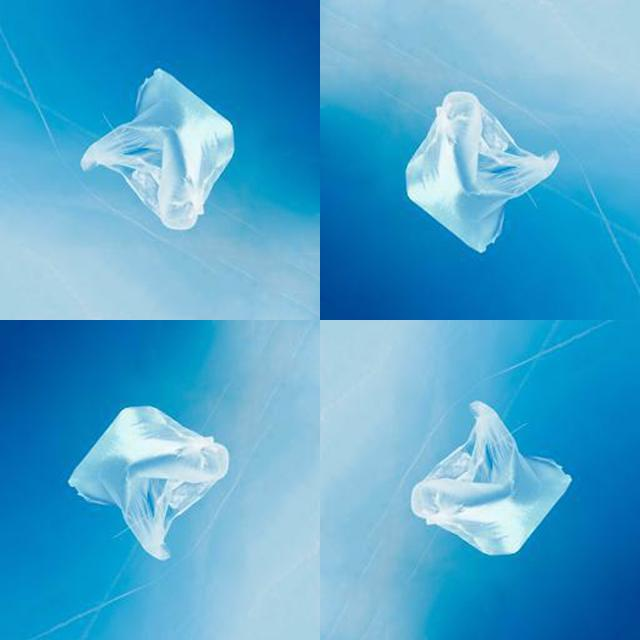Single-layer Plastic: (81, 69, 234, 230), (406, 91, 559, 252), (411, 401, 571, 554), (69, 408, 229, 560)
